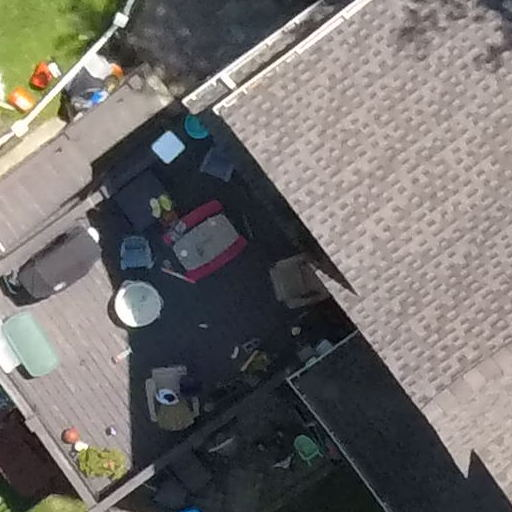bucket: (3, 79, 40, 114), (28, 65, 54, 89)
container: (1, 307, 65, 379)
